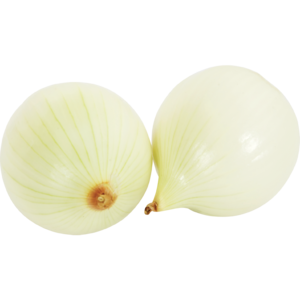onion: (7, 35, 300, 273)
